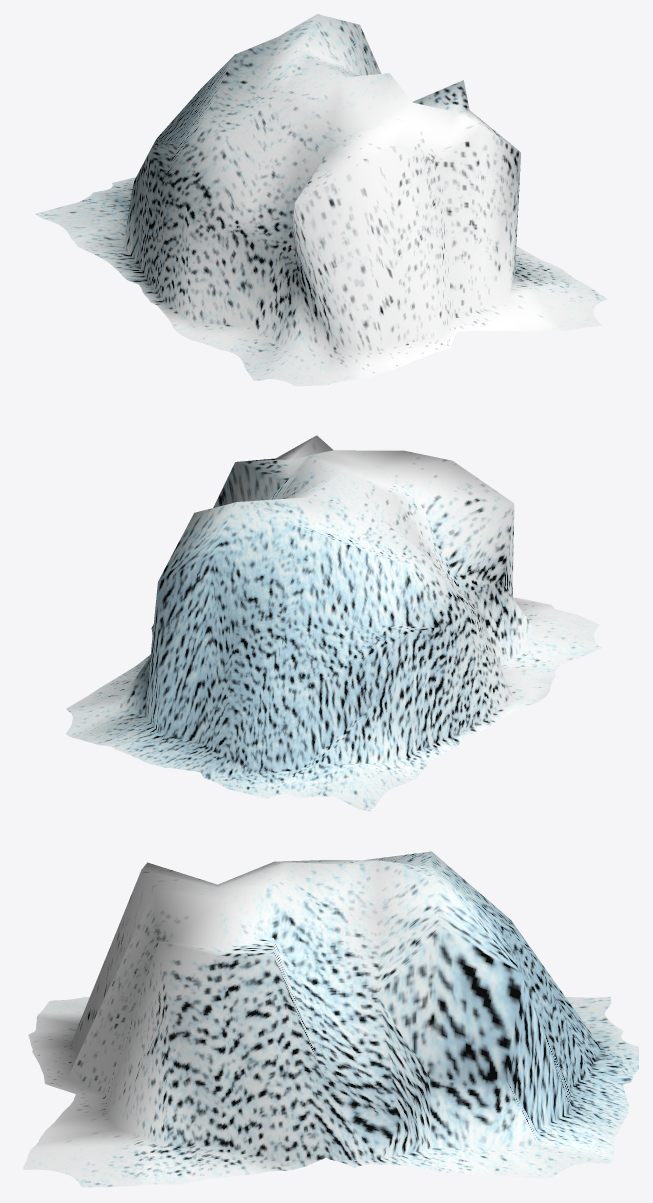
The model's file is SnowPile3.fbx.
3 views of the same model, one above another, from view 1: azimuth 30°, elevation 25°; view 2: azimuth 150°, elevation 25°; view 3: azimuth 270°, elevation 25° (orthographic). The views are drawn at different scales.
Visible parts, largest first — view 1: pPlane1; view 2: pPlane1; view 3: pPlane1.
Boxes of the visible parts, x1,y1,x2,y2 form: pPlane1: (35,14,607,386); pPlane1: (65,435,601,811); pPlane1: (23,851,638,1187).
Bounding box in the file's own units: 321 × 174 × 421.
